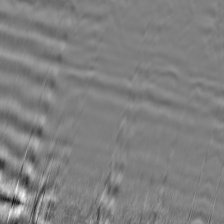cavities: (94, 44, 219, 163)
